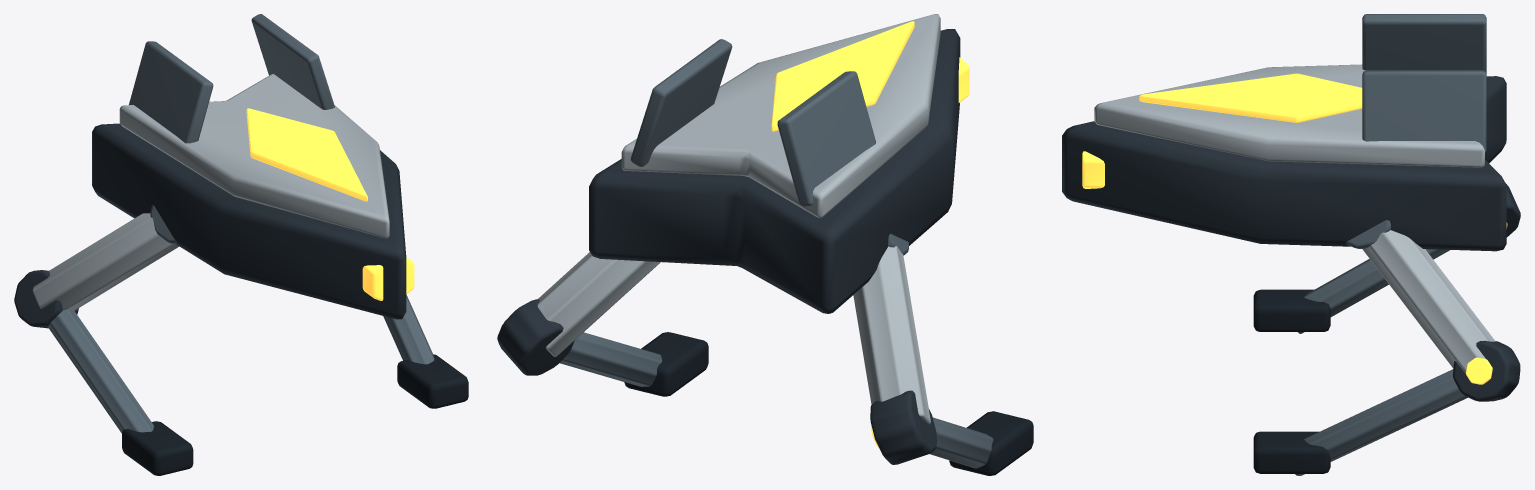
The model's file is t2_runner.fbx.
3 views of the same model, side by side, from view 1: azimuth 30°, elevation 25°; view 2: azimuth 150°, elevation 25°; view 3: azimuth 270°, elevation 25° (orthographic). The views are drawn at different scales.
Parts seen in each view (by area): view 1: Body_Geometry, Leg_R_Geometry, Knee.001_Geometry, Foot_Geometry, Foot.001_Geometry, Knee_Geometry; view 2: Body_Geometry, Leg_R_Geometry, Knee_Geometry, Leg_L_Geometry, Knee.001_Geometry, Foot_Geometry, Foot.001_Geometry; view 3: Body_Geometry, Leg_L_Geometry, Knee_Geometry, Foot.001_Geometry, Foot_Geometry, Knee.001_Geometry.
Part boxes in pixels (x1,y1,x2,y2): Body_Geometry: [92, 14, 414, 319]; Leg_R_Geometry: [32, 205, 179, 310]; Knee.001_Geometry: [14, 270, 153, 433]; Foot_Geometry: [397, 354, 468, 408]; Foot.001_Geometry: [122, 421, 193, 475]; Knee_Geometry: [383, 295, 434, 364]; Body_Geometry: [589, 14, 969, 313]; Leg_R_Geometry: [853, 233, 930, 424]; Knee_Geometry: [497, 299, 662, 386]; Leg_L_Geometry: [537, 252, 660, 356]; Knee.001_Geometry: [870, 390, 993, 468]; Foot_Geometry: [624, 332, 708, 396]; Foot.001_Geometry: [949, 411, 1033, 475]; Body_Geometry: [1062, 14, 1506, 251]; Leg_L_Geometry: [1345, 220, 1495, 373]; Knee_Geometry: [1295, 340, 1520, 475]; Foot.001_Geometry: [1253, 289, 1330, 331]; Foot_Geometry: [1253, 431, 1330, 473]; Knee.001_Geometry: [1298, 184, 1520, 333].
Bounding box in the file's own units: 1.63 × 1.47 × 1.7.
